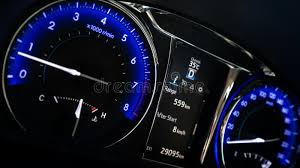Digital_Meter: (148, 137, 193, 163)
